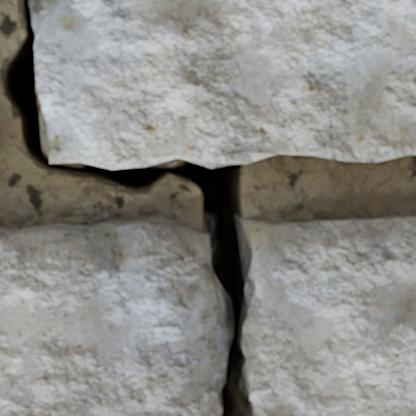brick: (29, 0, 415, 167)
broken_brick: (0, 212, 219, 415), (250, 218, 415, 415), (240, 217, 303, 226)
crack: (0, 0, 415, 415)
